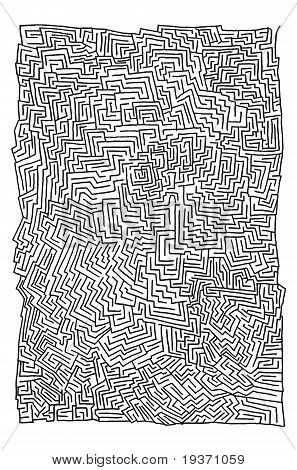maze: (8, 21, 289, 429)
